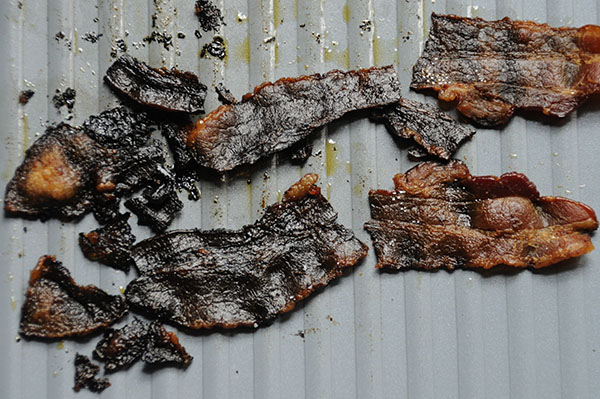bacon: (354, 144, 592, 297), (196, 46, 412, 178)
